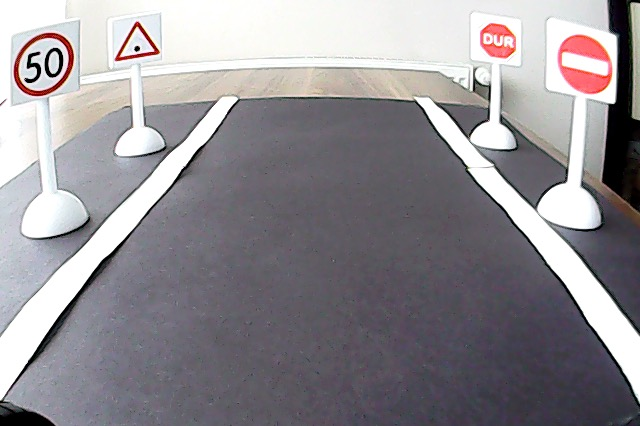do not enter: (551, 27, 616, 99)
green light: (110, 17, 163, 65)
speed limit 50: (9, 30, 77, 100)
stop sign: (474, 17, 521, 62)
